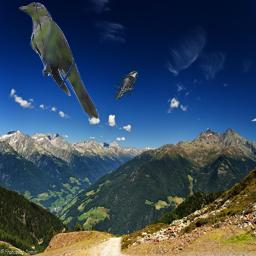Cuckoo: (19, 2, 102, 120), (114, 71, 138, 100)
